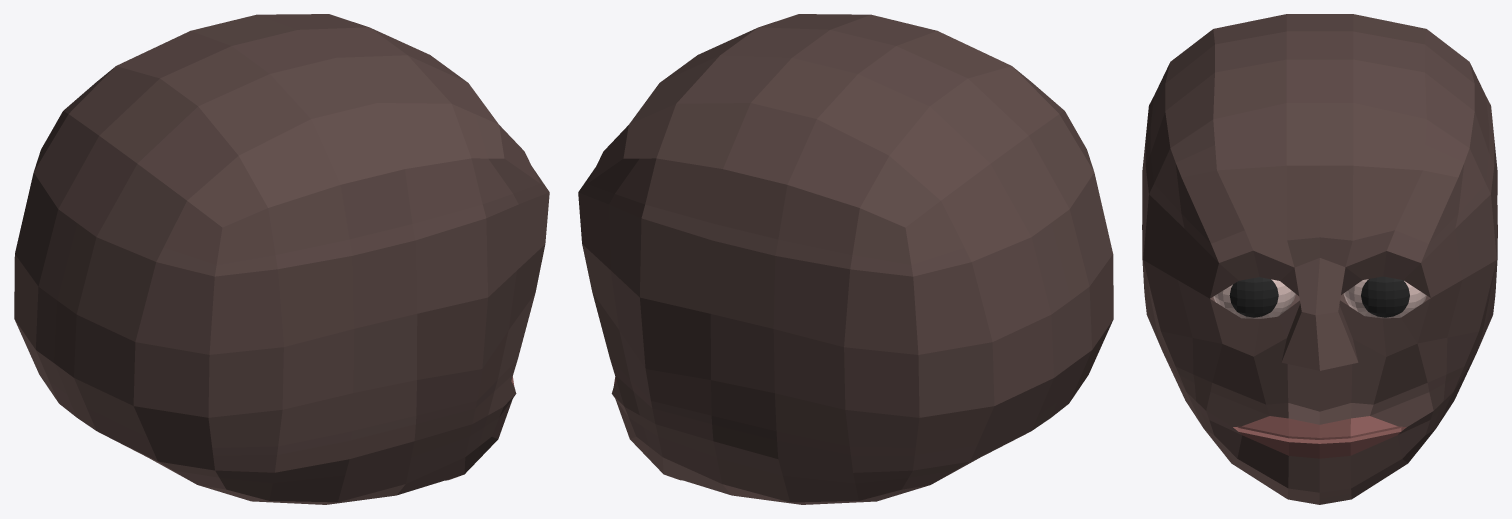
File: head_animation.fbx
The picture shows the model from 3 angles, left to right: view 1: azimuth 30°, elevation 25°; view 2: azimuth 150°, elevation 25°; view 3: azimuth 270°, elevation 25°; orthographic projection. The views are drawn at different scales.
Parts seen in each view (by area): view 1: Cube; view 2: Cube; view 3: Cube, Cube.002, Cube.001.
Boxes of the visible parts, x1,y1,x2,y2 form: Cube: (14,14,549,504); Cube: (578,14,1113,504); Cube: (1142,14,1497,504); Cube.002: (1343,276,1426,318); Cube.001: (1213,277,1295,318).
Size of the model in its own units: 221 by 197 by 161.
